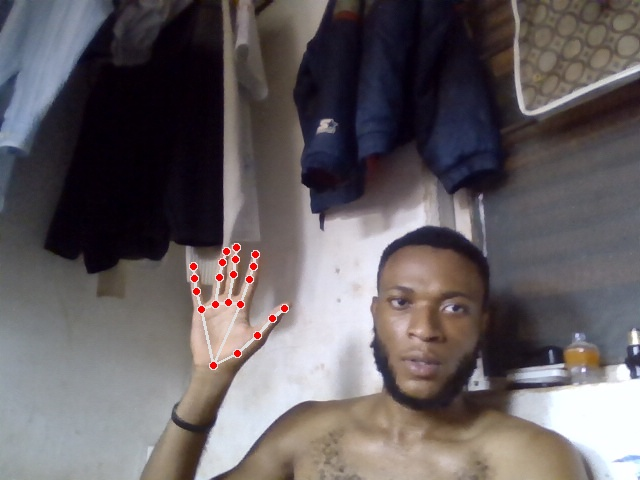no: (187, 240, 296, 376)
